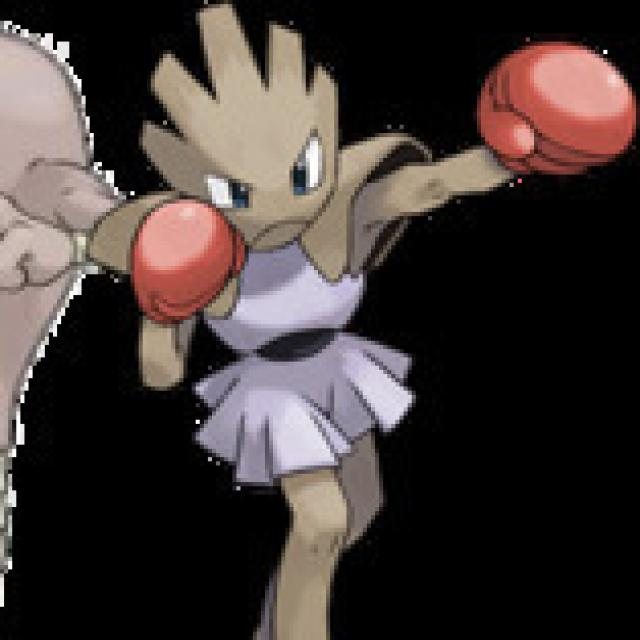Hitmonchan: (97, 7, 431, 640)
